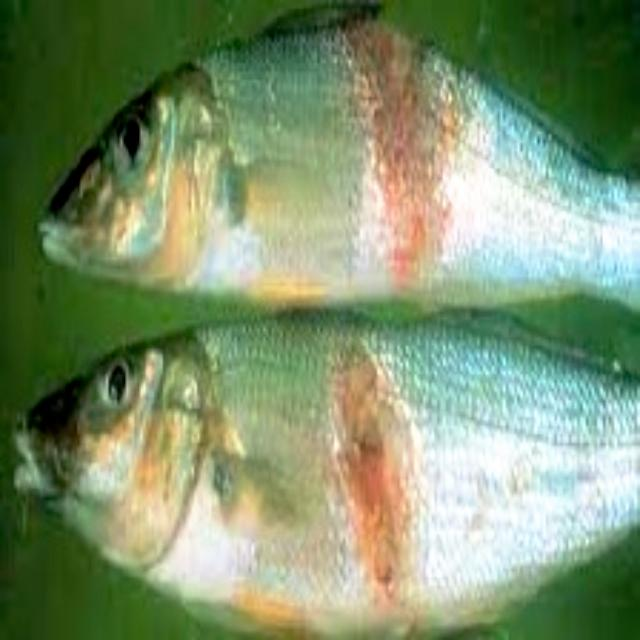Edwardsiella Ictaluri -Bacterial Red Disease-: (17, 311, 637, 631), (40, 0, 637, 306)
